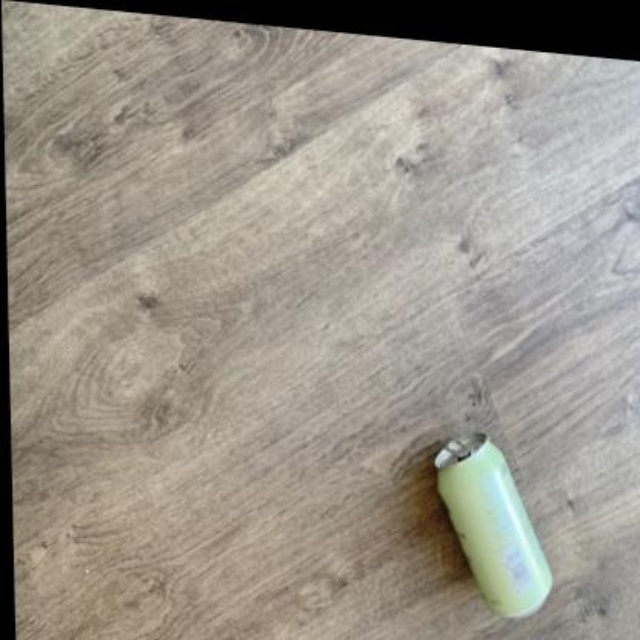trash: (435, 434, 551, 615)
